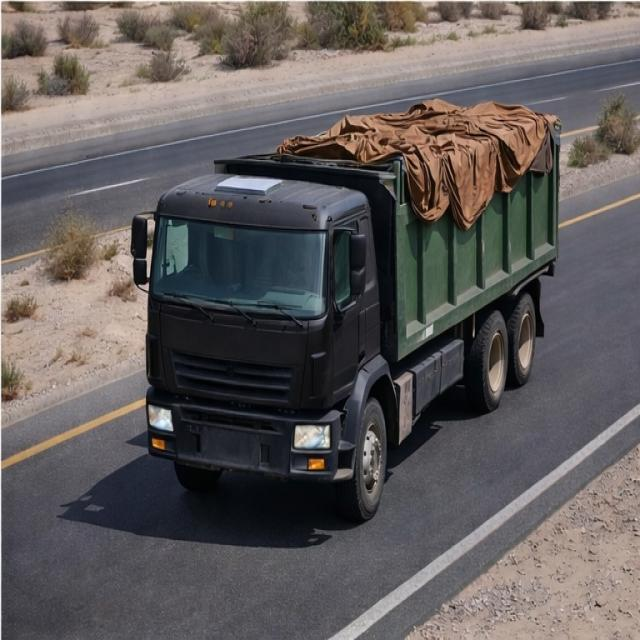trailer: (225, 101, 564, 195)
truck: (126, 87, 580, 514)
